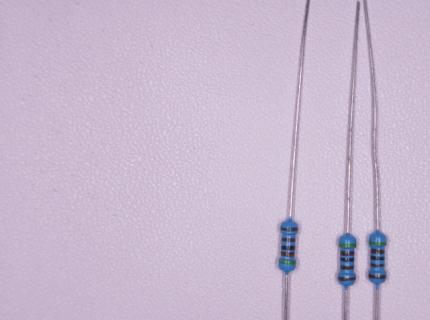Black band: (281, 245, 295, 250), (370, 256, 385, 260), (340, 258, 354, 262)
Brown band: (281, 226, 299, 232), (340, 250, 355, 256), (338, 276, 356, 281), (369, 274, 386, 279), (281, 251, 295, 257), (371, 248, 385, 254), (340, 265, 354, 270), (281, 238, 296, 242), (370, 263, 385, 267)
Green band: (278, 259, 296, 265), (339, 243, 356, 248), (369, 242, 387, 246)
